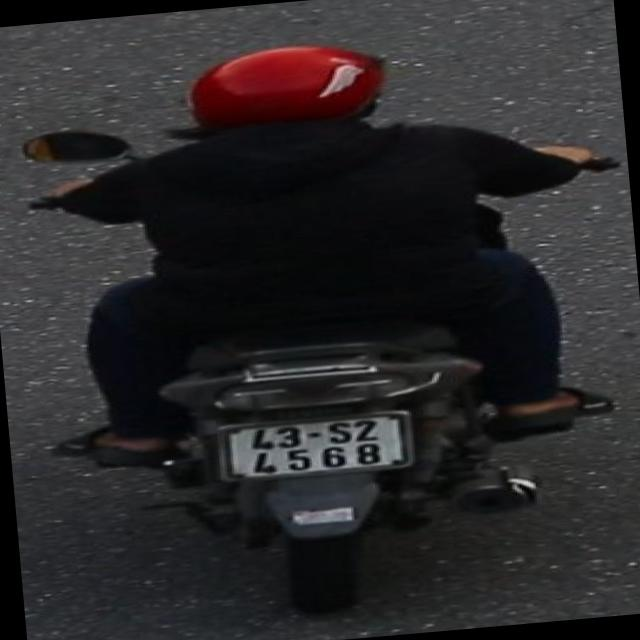LP: (208, 403, 426, 488)
helmet: (174, 32, 402, 150)
